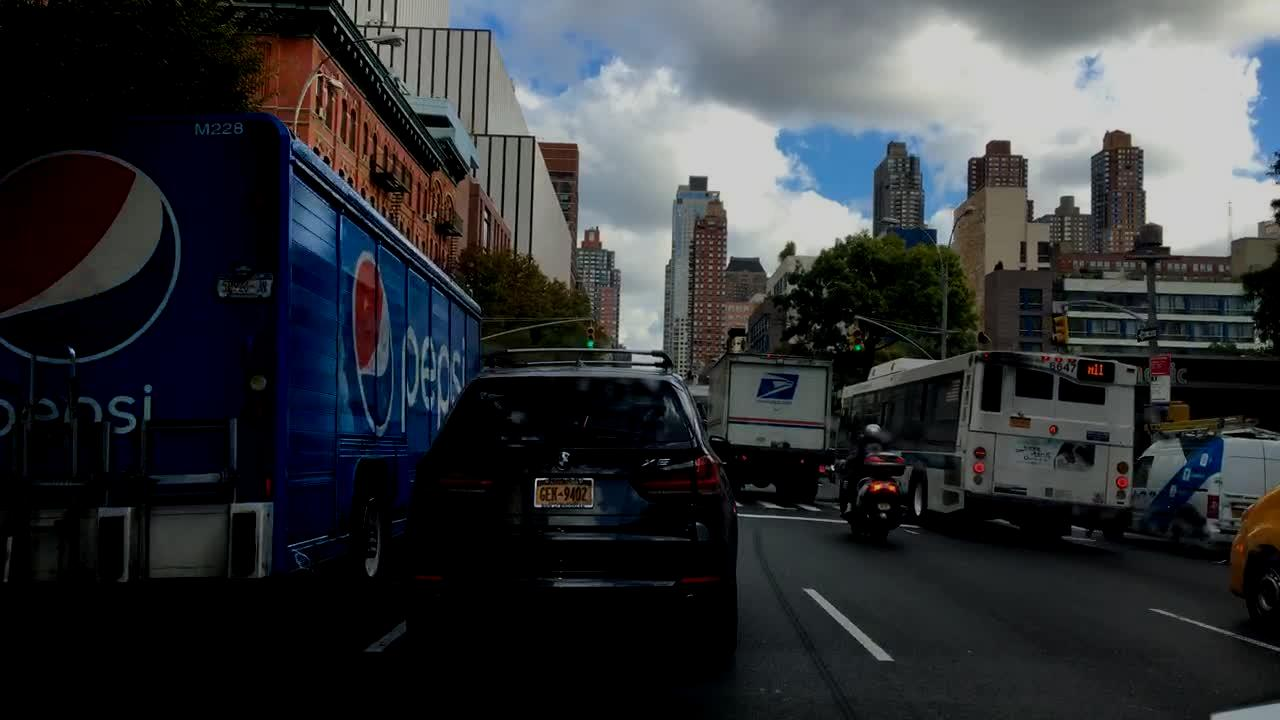bmw: (551, 445, 581, 476)
